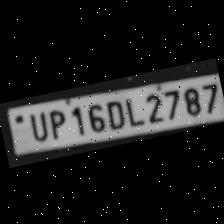1: (62, 102, 86, 136)
2: (138, 87, 166, 124)
6: (82, 98, 108, 133)
7: (195, 77, 222, 114), (158, 84, 182, 120)
8: (177, 82, 203, 117)
D: (100, 96, 125, 130)
L: (120, 91, 144, 127)
P: (42, 104, 68, 138)
U: (22, 106, 50, 142)
